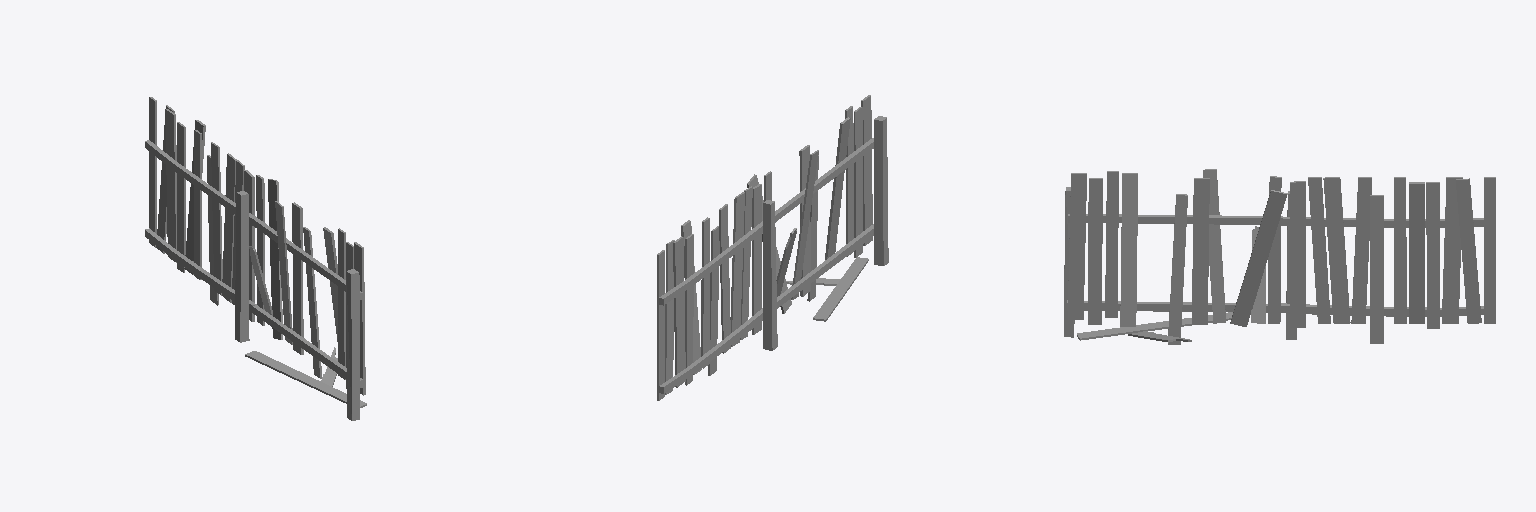
The model's file is fence.obj.
3 views of the same model, side by side, from view 1: azimuth 30°, elevation 25°; view 2: azimuth 150°, elevation 25°; view 3: azimuth 270°, elevation 25° (orthographic).
Visible parts, largest first — view 1: wood_fance_m4_t1, wood_fance_m3_t1; view 2: wood_fance_m3_t1, wood_fance_m4_t1; view 3: wood_fance_m3_t1, wood_fance_m4_t1.
Part boxes in pixels (left/top/right/bottom): wood_fance_m4_t1: left=245, top=175, right=366, bottom=420; wood_fance_m3_t1: left=145, top=97, right=256, bottom=342; wood_fance_m3_t1: left=657, top=184, right=777, bottom=400; wood_fance_m4_t1: left=747, top=95, right=888, bottom=321; wood_fance_m3_t1: left=1281, top=177, right=1495, bottom=343; wood_fance_m4_t1: left=1064, top=169, right=1287, bottom=344.
Size of the model in its own units: 7.42 by 17.65 by 40.27.